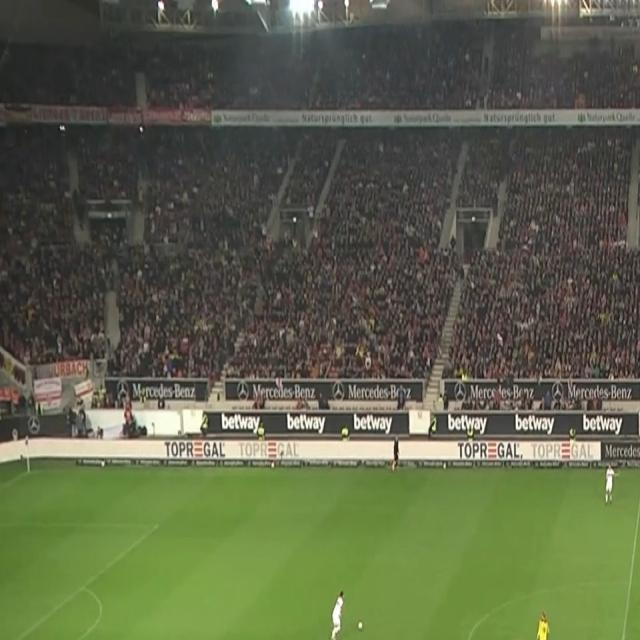ball: (357, 620, 363, 632)
